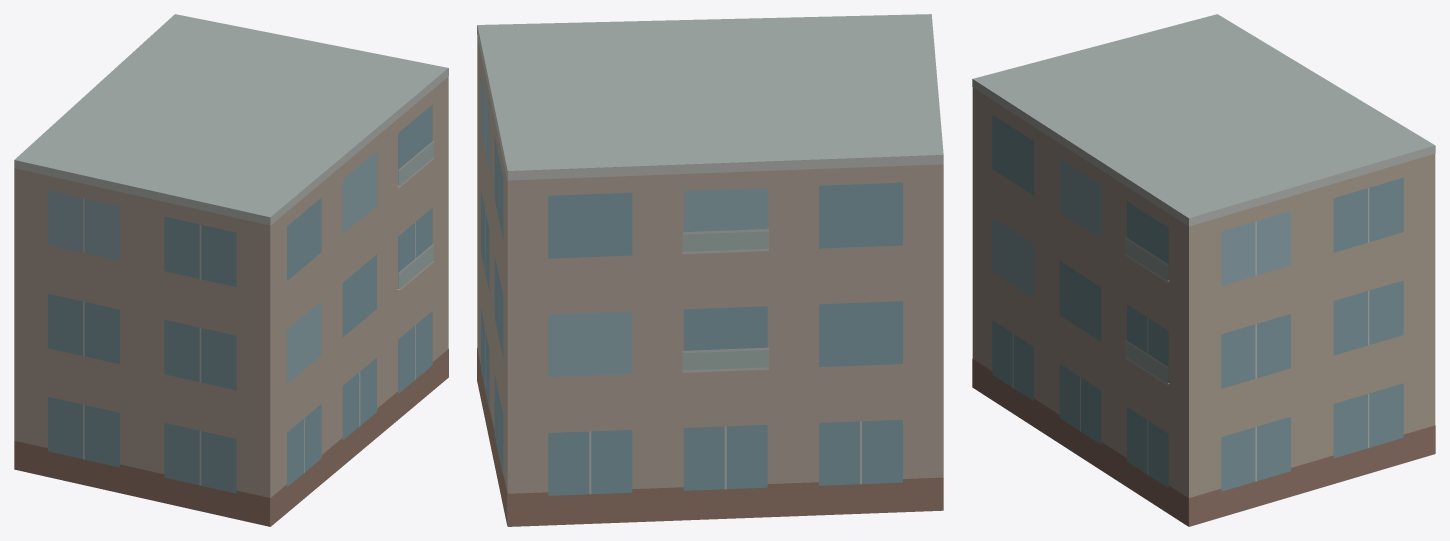
File: survey-upis-32790396.glb
The picture shows the model from 3 angles, left to right: view 1: azimuth 30°, elevation 25°; view 2: azimuth 150°, elevation 25°; view 3: azimuth 270°, elevation 25°; orthographic projection. The views are drawn at different scales.
Parts seen in each view (by area): view 1: survey-upis-32790396.tmp; view 2: survey-upis-32790396.tmp; view 3: survey-upis-32790396.tmp.
Boxes of the visible parts, x1,y1,x2,y2 form: survey-upis-32790396.tmp: (14,14,448,526); survey-upis-32790396.tmp: (477,14,943,526); survey-upis-32790396.tmp: (972,14,1435,526).
Size of the model in its own units: 13 by 9.15 by 12.45.
